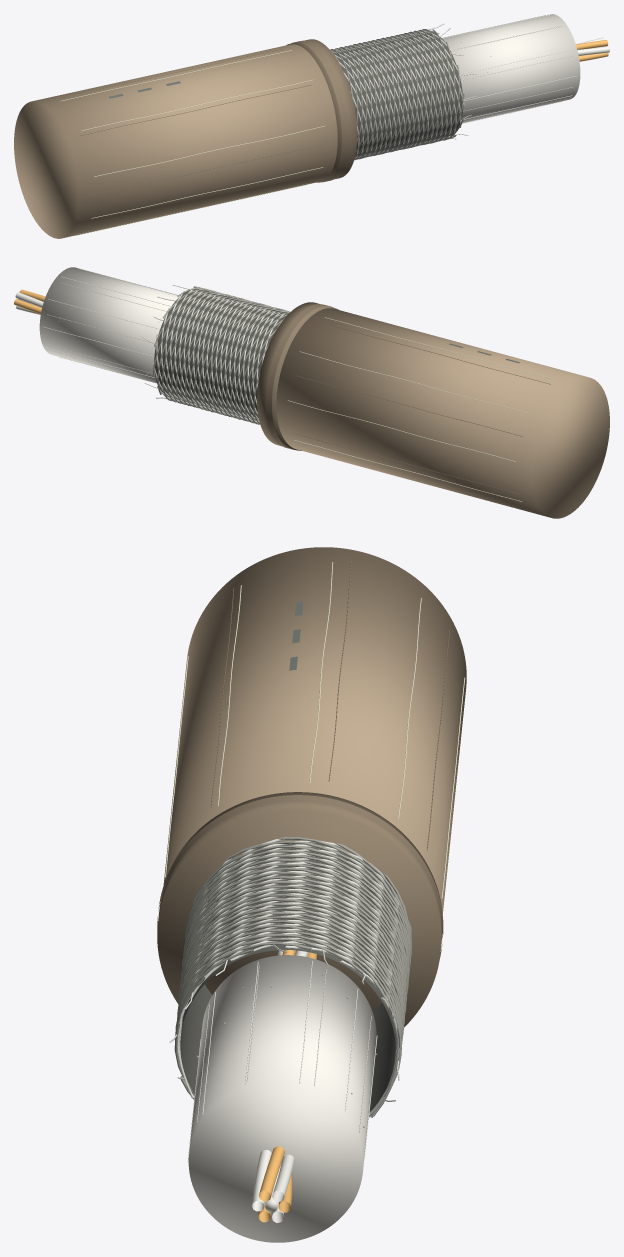
File: rf-gore-pf-macro.glb
The picture shows the model from 3 angles, top to bottom: view 1: azimuth 30°, elevation 25°; view 2: azimuth 150°, elevation 25°; view 3: azimuth 270°, elevation 25°; orthographic projection. The views are drawn at different scales.
Parts seen in each view (by area): view 1: macro jacket body, macro dielectric exposed core, shadow seen through braid windows, thick jacket cut wall, rounded jacket cut lip, macro braid shadow carrier 05 strand 1, macro braid shadow carrier 06 strand 1, macro braid shadow carrier 03 strand 1, macro braid shadow carrier 04 strand 1, macro braid shadow carrier 08 strand 1, macro braid shadow carrier 07 strand 1, macro braid shadow carrier 09 strand 1 (+5 smaller); view 2: macro jacket body, macro dielectric exposed core, shadow seen through braid windows, thick jacket cut wall, rounded jacket cut lip, macro braid shadow carrier 01 strand 1, macro braid shadow carrier 03 strand 1, macro braid shadow carrier 02 strand 1, macro braid shadow carrier 04 strand 1, macro braid shadow carrier 12 strand 1, macro braid shadow carrier 11 strand 1, macro braid shadow carrier 08 strand 1 (+5 smaller); view 3: macro jacket body, macro dielectric exposed core, thick jacket cut wall, shadow seen through braid windows, rounded jacket cut lip, macro braid shadow carrier 05 strand 2, macro braid shadow carrier 04 strand 2, macro braid shadow carrier 10 strand 2, macro braid shadow carrier 11 strand 2, macro braid shadow carrier 08 strand 2, macro braid shadow carrier 07 strand 2, macro braid shadow carrier 09 strand 2 (+5 smaller).
Boxes of the visible parts, box(x1,y1,x2,y2) form: macro jacket body: box(14, 44, 337, 238); macro dielectric exposed core: box(442, 14, 580, 123); shadow seen through braid windows: box(333, 31, 463, 156); thick jacket cut wall: box(286, 39, 357, 182); rounded jacket cut lip: box(292, 40, 348, 182); macro braid shadow carrier 05 strand 1: box(355, 30, 436, 159); macro braid shadow carrier 06 strand 1: box(359, 29, 440, 159); macro braid shadow carrier 03 strand 1: box(348, 33, 427, 157); macro braid shadow carrier 04 strand 1: box(353, 32, 432, 159); macro braid shadow carrier 08 strand 1: box(368, 29, 450, 156); macro braid shadow carrier 07 strand 1: box(363, 29, 445, 158); macro braid shadow carrier 09 strand 1: box(374, 39, 455, 155); macro jacket body: box(276, 308, 609, 518); macro dielectric exposed core: box(39, 267, 179, 383); shadow seen through braid windows: box(154, 289, 287, 420); thick jacket cut wall: box(257, 302, 338, 450); rounded jacket cut lip: box(266, 304, 333, 450); macro braid shadow carrier 01 strand 1: box(171, 296, 289, 417); macro braid shadow carrier 03 strand 1: box(162, 294, 283, 415); macro braid shadow carrier 02 strand 1: box(167, 295, 286, 417); macro braid shadow carrier 04 strand 1: box(157, 293, 280, 414); macro braid shadow carrier 12 strand 1: box(176, 297, 289, 419); macro braid shadow carrier 11 strand 1: box(180, 298, 287, 420); macro braid shadow carrier 08 strand 1: box(177, 288, 267, 424); macro jacket body: box(163, 547, 466, 914); macro dielectric exposed core: box(188, 955, 376, 1242); thick jacket cut wall: box(157, 792, 442, 1026); shadow seen through braid windows: box(180, 843, 396, 1111); rounded jacket cut lip: box(157, 795, 443, 957); macro braid shadow carrier 05 strand 2: box(178, 876, 411, 1068); macro braid shadow carrier 04 strand 2: box(178, 872, 406, 1116); macro braid shadow carrier 10 strand 2: box(176, 845, 409, 1027); macro braid shadow carrier 11 strand 2: box(175, 850, 409, 1092); macro braid shadow carrier 08 strand 2: box(177, 837, 410, 1018); macro braid shadow carrier 07 strand 2: box(178, 843, 411, 1008); macro braid shadow carrier 09 strand 2: box(175, 841, 409, 1028).
Bounding box in the file's own units: 6.46 × 1.46 × 1.58.
